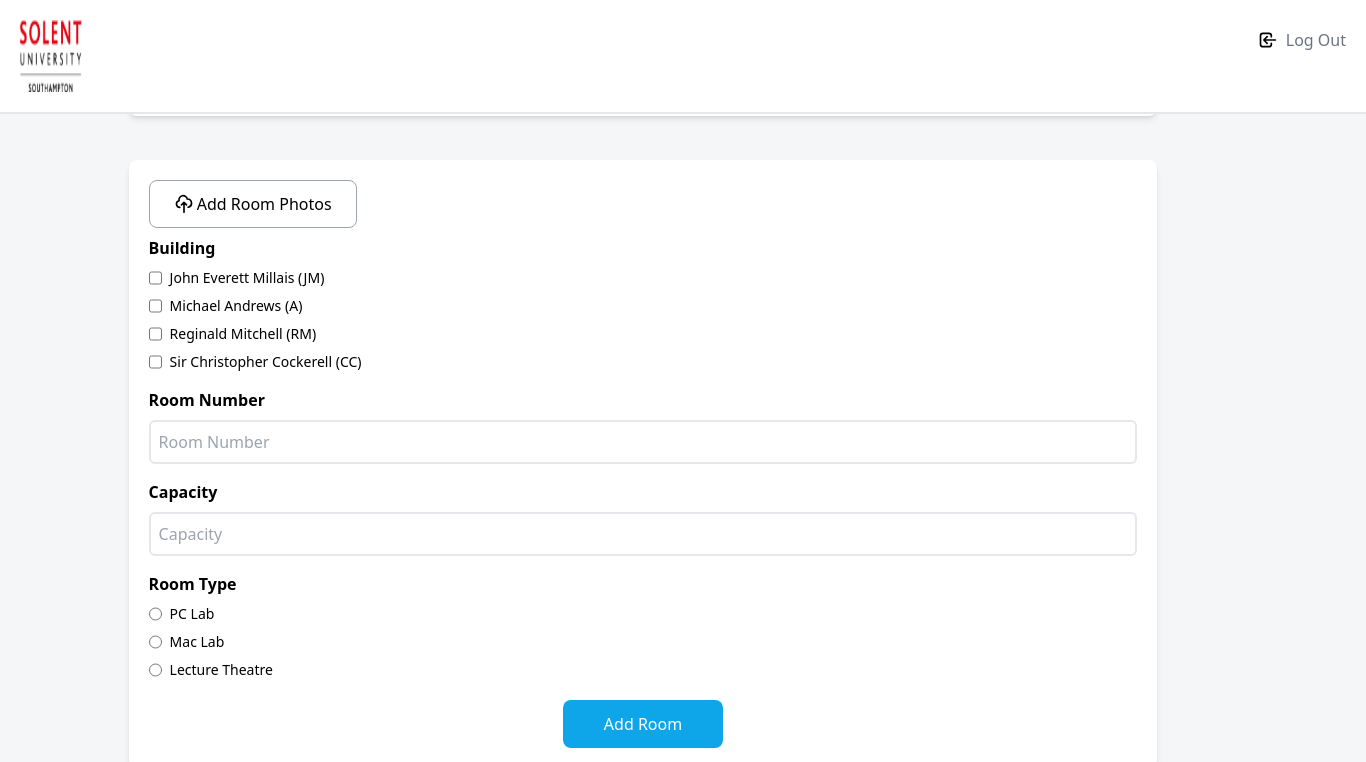
Test: Create Page Test › prevents non-valid form
The width and height of the screenshot is (1366, 762).
(page scrolled)
Click the button with test id "submit-button". click: (643, 724)
box: [563,700,723,748]
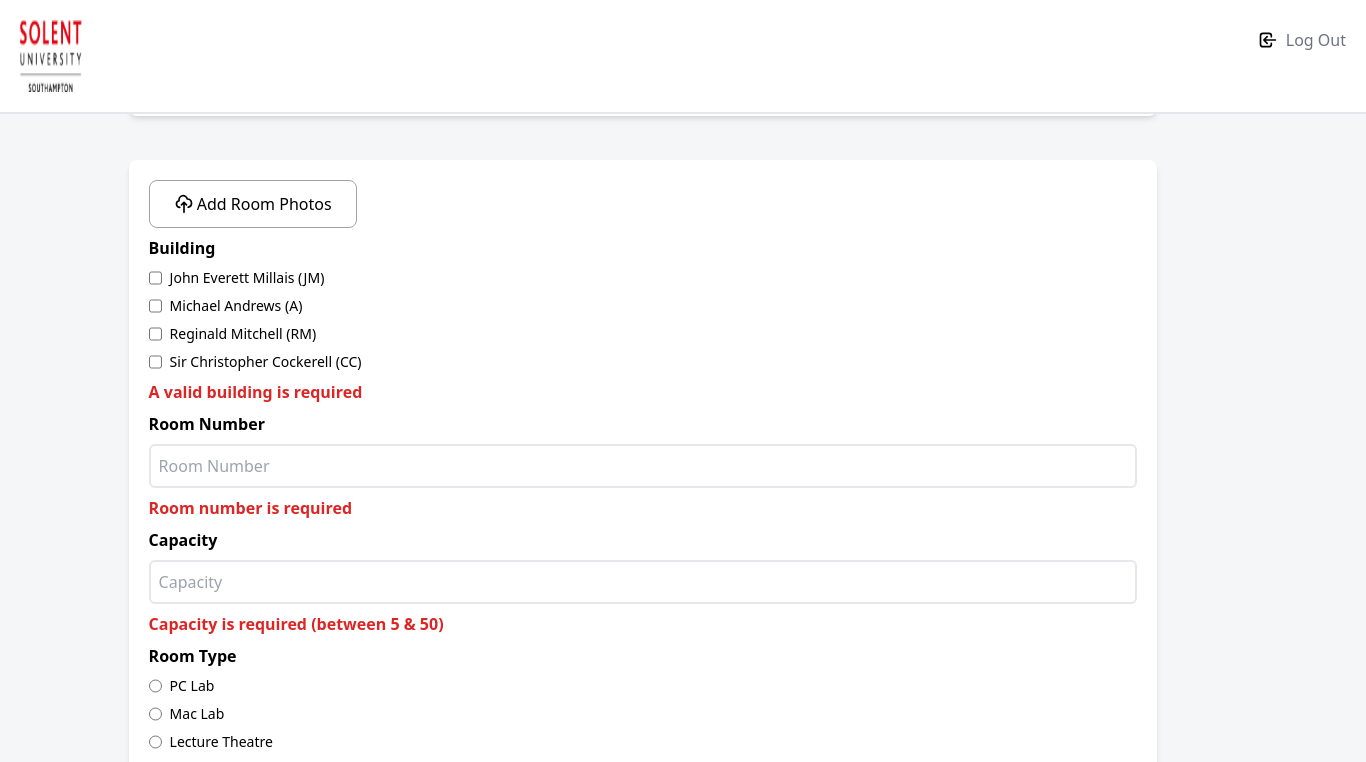
Expected: the text "A valid building is required" is shown, [149,381,362,403]
Expected: the text "Room number is required" is shown, [149,497,352,519]
Expected: the text "Capacity is required (between 5 & 50)" is shown, [149,613,444,635]
